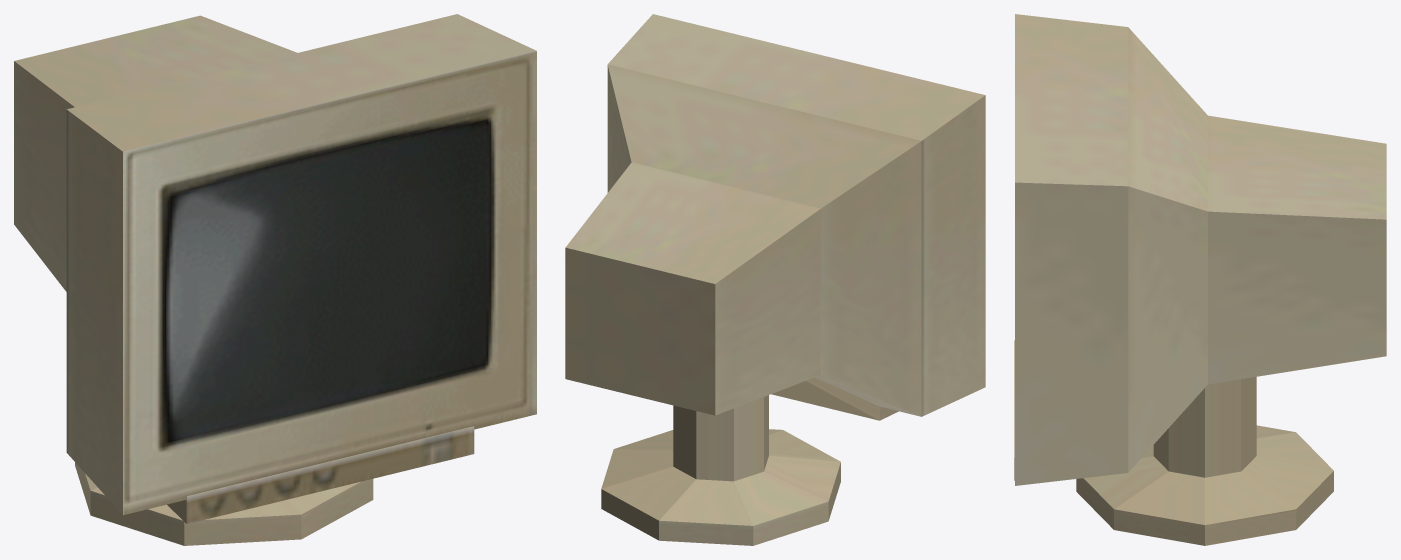
File: monitor.glb
3 renders of one model, left to right at view 1: azimuth 30°, elevation 25°; view 2: azimuth 150°, elevation 25°; view 3: azimuth 270°, elevation 25°, orthographic. The views are drawn at different scales.
Visible parts, largest first — view 1: Monitor_Material.003_0, Monitor_Material.005_0, Monitor_Material.004_0; view 2: Monitor_Material.003_0, Monitor_Material.005_0, Monitor_Material.004_0; view 3: Monitor_Material.003_0, Monitor_Material.005_0.
Part boxes in pixels (x1,y1,x2,y2): Monitor_Material.003_0: (14,14,536,515); Monitor_Material.005_0: (75,462,373,545); Monitor_Material.004_0: (167,426,474,523); Monitor_Material.003_0: (565,14,985,416); Monitor_Material.005_0: (601,395,840,545); Monitor_Material.004_0: (771,377,898,420); Monitor_Material.003_0: (1015,14,1386,485); Monitor_Material.005_0: (1076,377,1333,545).
Size of the model in its own units: 66.62 by 71.85 by 62.19.
3 materials, 3 textured.
